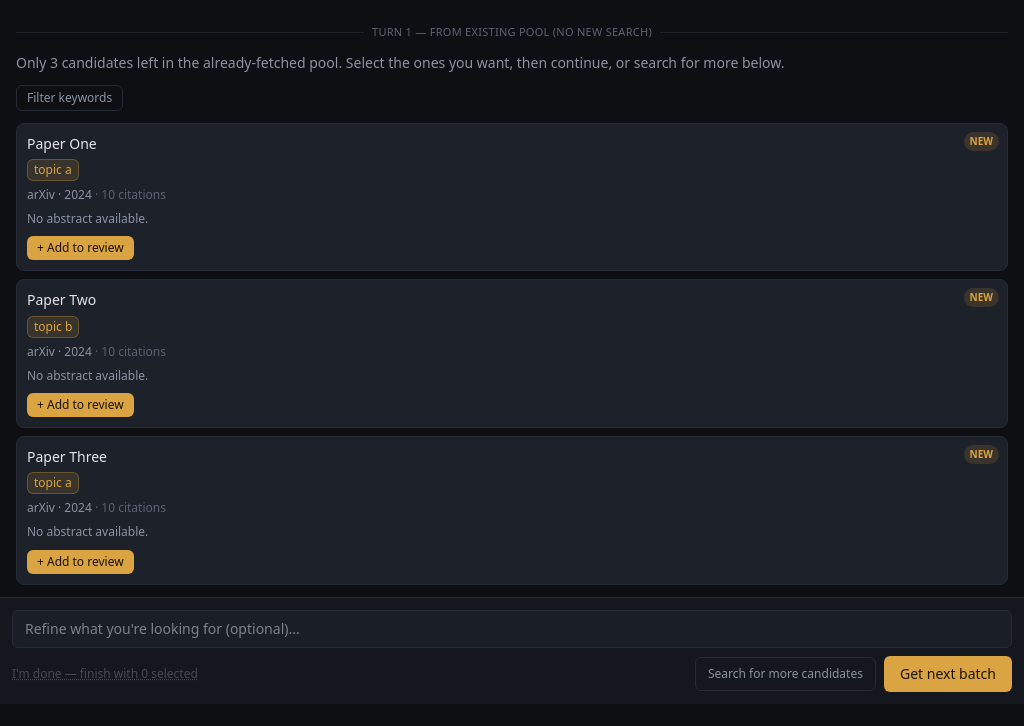
ReviewModePanel -- Paper Keywords and Filtering, K4.2: Popular/Browse-all filter › one selected keyword filters the visible batch correctly, preserving original order
Click the button with test id "keyword-filter-toggle".
click(70, 98)  # box [16,84,123,110]
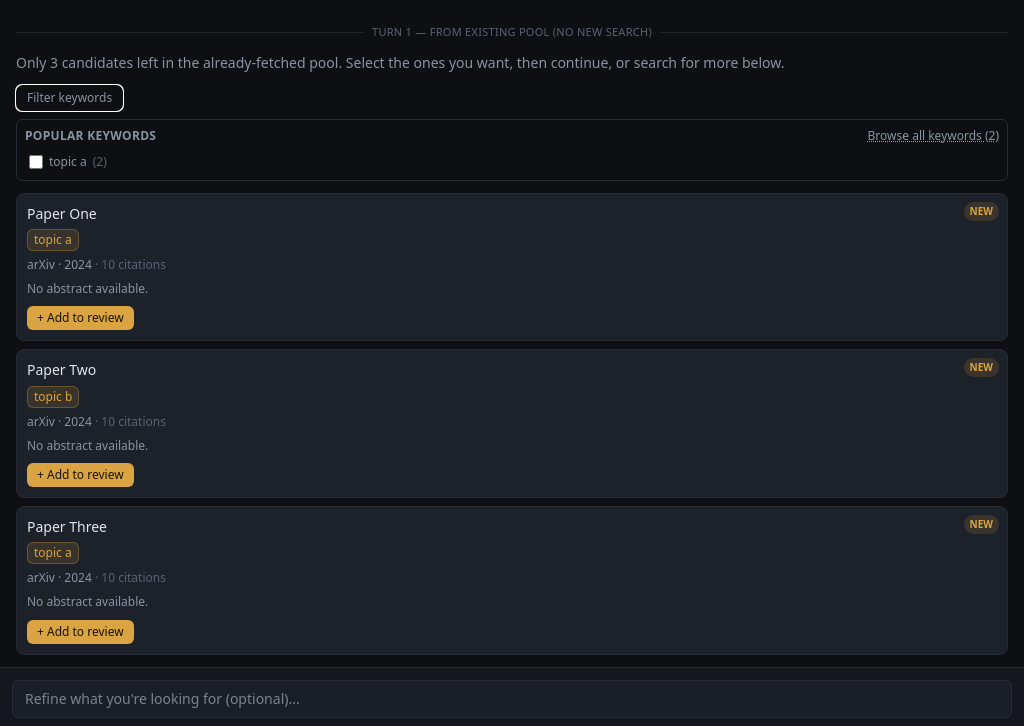
Click the button with test id "keyword-browse-all-toggle".
click(933, 136)  # box [868,128,999,144]
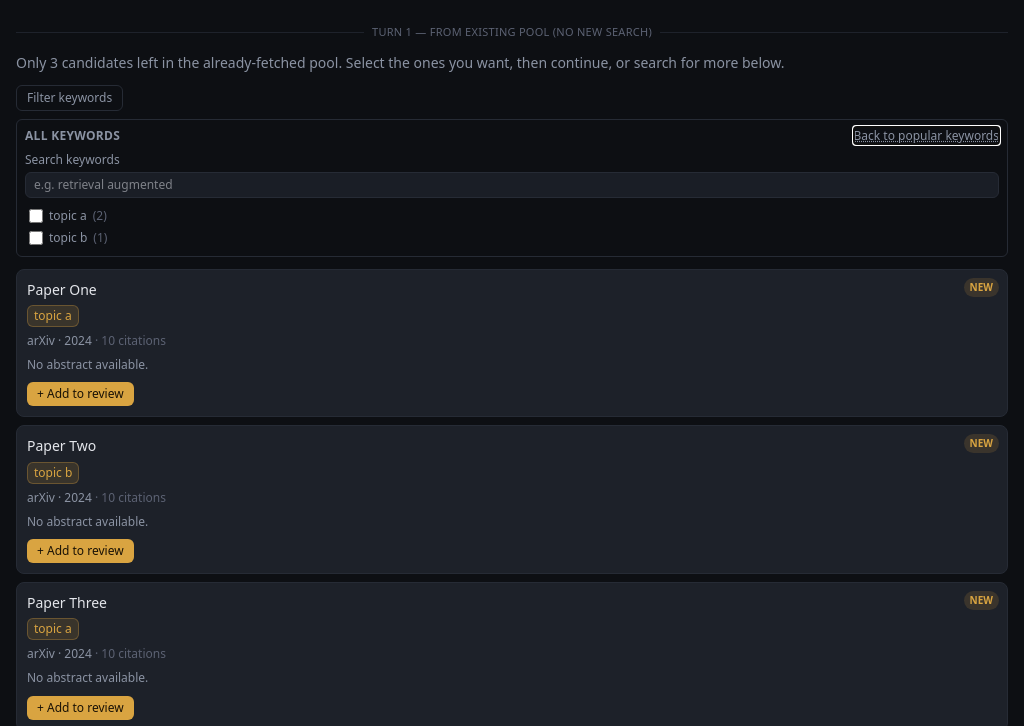
Click the checkbox labelled "topic a (2)".
click(36, 216)  # box [29,208,43,222]
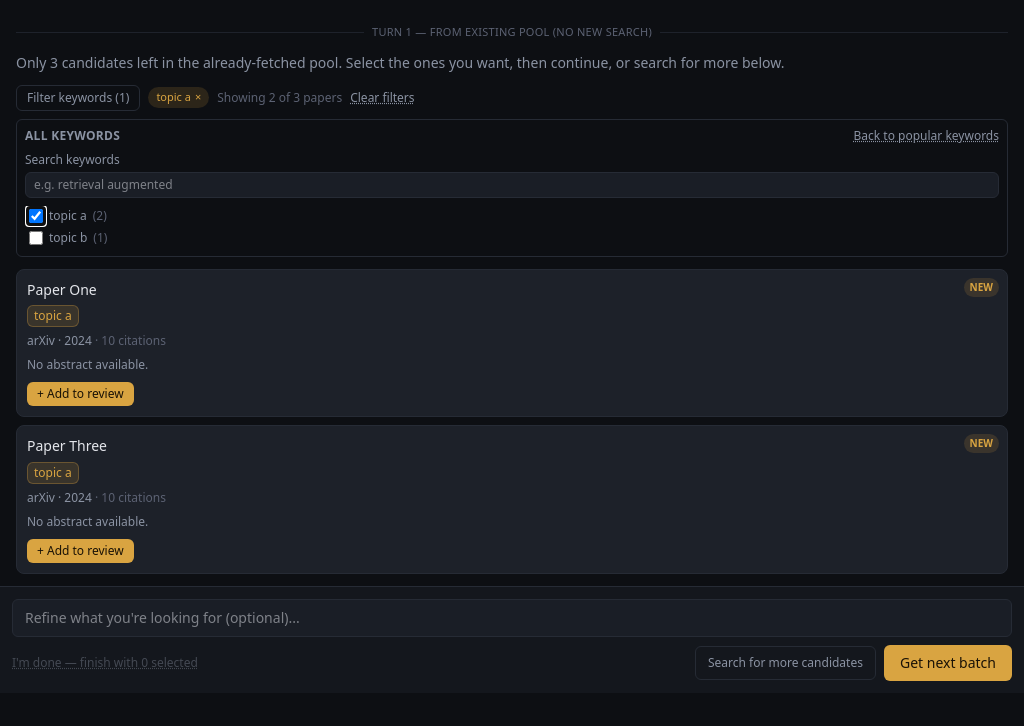
Expected: the text "Paper One" is shown, [27,280,97,298]
Now the text "Paper Two" is gone
